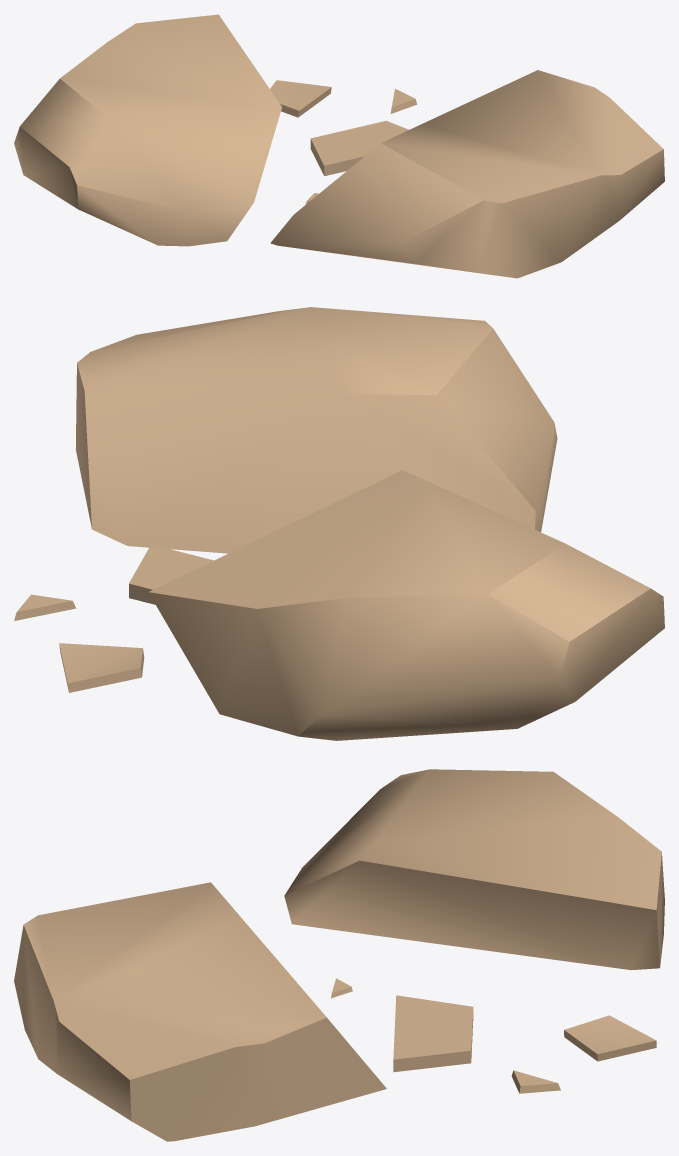
Rendered from rock-flat-crk-m-01.glb.
The picture shows the model from 3 angles, top to bottom: view 1: azimuth 30°, elevation 25°; view 2: azimuth 150°, elevation 25°; view 3: azimuth 270°, elevation 25°; orthographic projection. The views are drawn at different scales.
Visible parts, largest first — view 1: Rock_Flat_crk_m_01; view 2: Rock_Flat_crk_m_01; view 3: Rock_Flat_crk_m_01.
Boxes of the visible parts, x1=… form: Rock_Flat_crk_m_01: x1=14, y1=14, x2=664, y2=278; Rock_Flat_crk_m_01: x1=14, y1=307, x2=664, y2=740; Rock_Flat_crk_m_01: x1=14, y1=769, x2=664, y2=1141.
Bounding box in the file's own units: 1.92 × 0.3892 × 1.85.
1 material, 1 textured.
